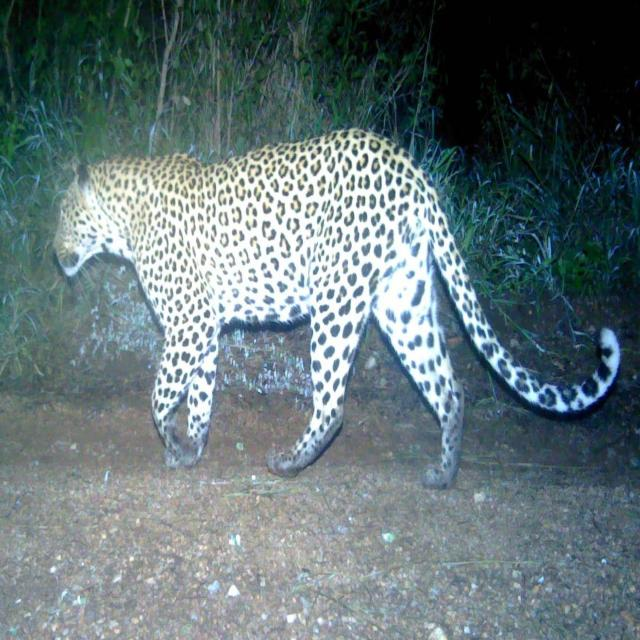Leopard: (45, 119, 601, 489)
